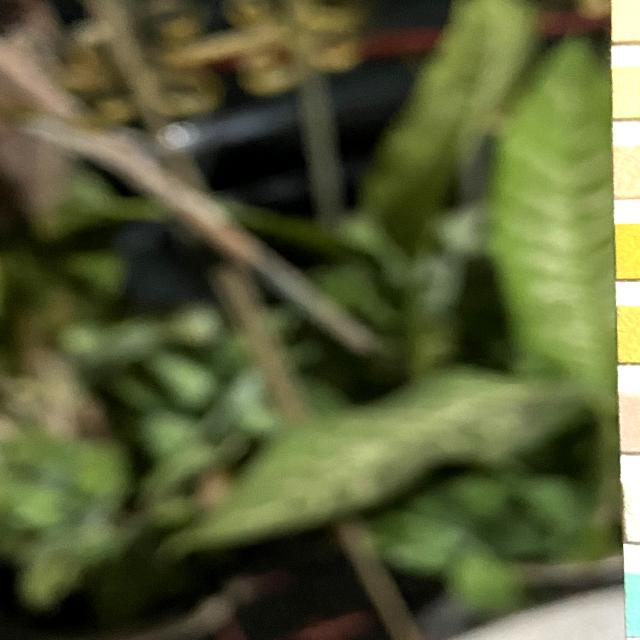Blood: (616, 225, 640, 278)
Ketone: (622, 393, 640, 452)
Protein: (615, 66, 640, 116)
SpGravity: (619, 306, 640, 364)
Urobilinogen: (613, 0, 640, 38)
pH: (615, 146, 640, 197)
